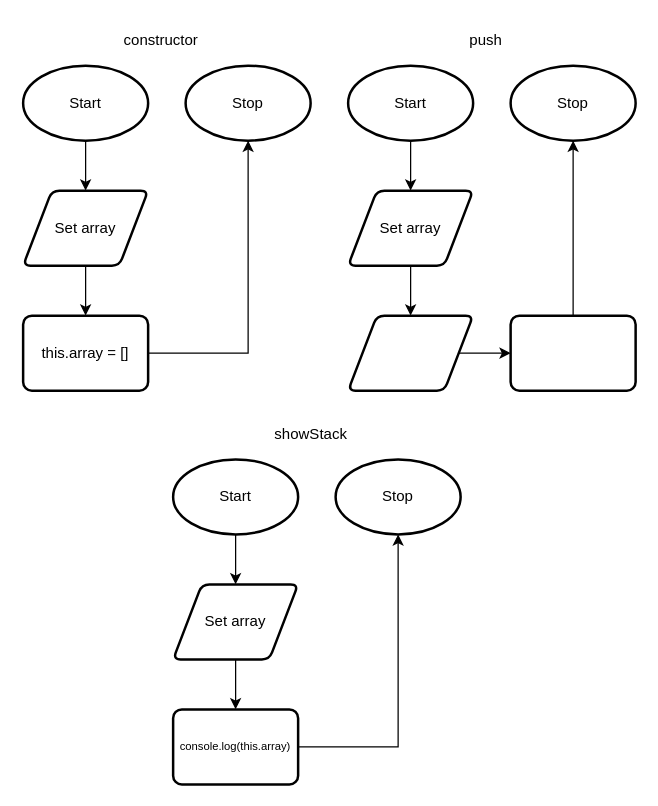
This 658x806 diagram has some shape labels left out. The centre of each missing label's shape, as x and y in pixels:
"Set integer" goes at [410,352].
"this.array.push(integer)" goes at [572,352].
